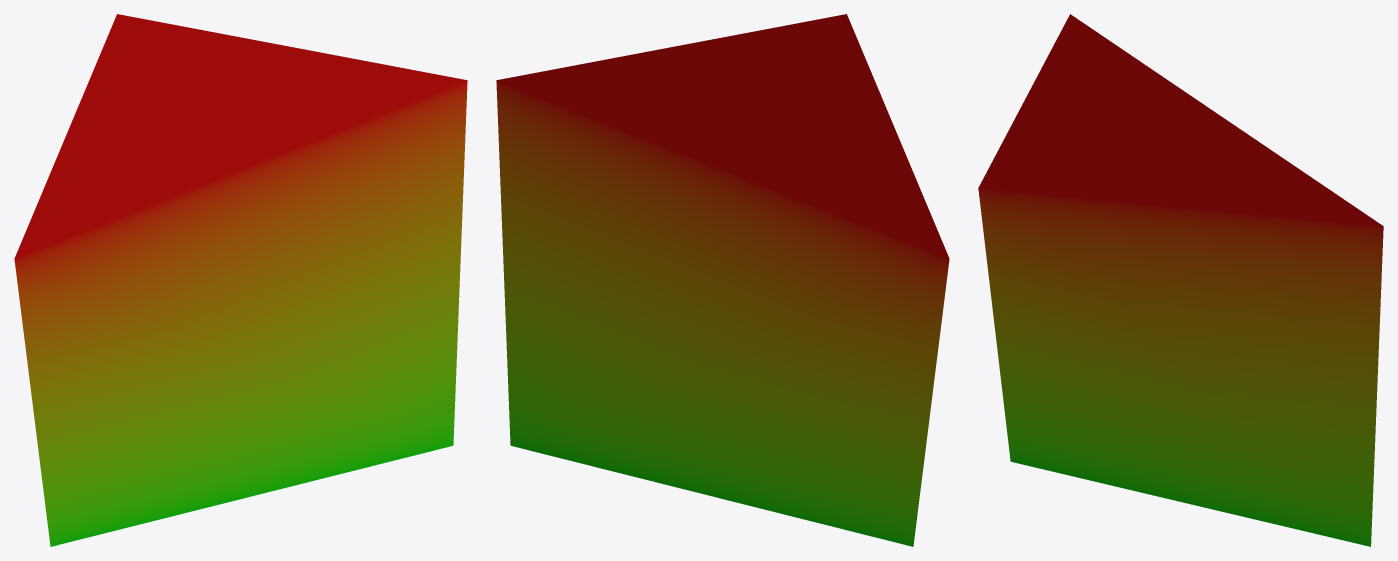
File: Tundra Grass_LOD7_Var33_wk2oaeyqx.fbx
3 renders of one model, left to right at view 1: azimuth 30°, elevation 25°; view 2: azimuth 150°, elevation 25°; view 3: azimuth 330°, elevation 25°, orthographic. The views are drawn at different scales.
Visible parts, largest first — view 1: _gwpf_Var33_LOD7; view 2: _gwpf_Var33_LOD7; view 3: _gwpf_Var33_LOD7.
Boxes of the visible parts, x1,y1,x2,y2 form: _gwpf_Var33_LOD7: (14,14,467,546); _gwpf_Var33_LOD7: (496,14,949,546); _gwpf_Var33_LOD7: (978,14,1383,546).
Size of the model in its own units: 67.46 by 73.51 by 3.19e-06.
